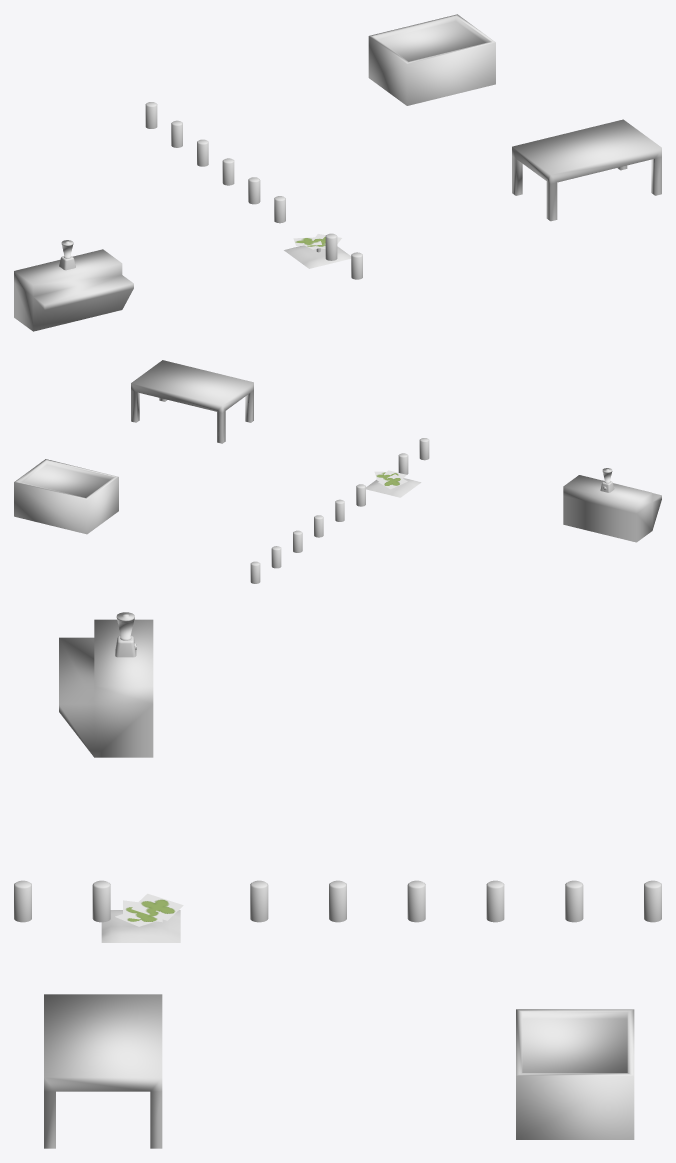
File: SubtreeScene.fbx
3 views of the same model, one above another, from view 1: azimuth 30°, elevation 25°; view 2: azimuth 150°, elevation 25°; view 3: azimuth 270°, elevation 25° (orthographic). The views are drawn at different scales.
Parts seen in each view (by area): view 1: CraftStorage, CraftTable, BlendTable, Divider, GardenPatch; view 2: CraftStorage, BlendTable, CraftTable, Divider, GardenPatch, Grass; view 3: CraftStorage, CraftTable, BlendTable, Divider, GardenPatch, Grass, Blender.
Boxes of the visible parts, x1,y1,x2,y2 form: CraftStorage: [368, 14, 495, 105]; CraftTable: [512, 119, 661, 221]; BlendTable: [14, 249, 133, 331]; Divider: [145, 102, 362, 279]; GardenPatch: [284, 245, 351, 268]; CraftStorage: [14, 459, 118, 534]; BlendTable: [563, 475, 661, 542]; CraftTable: [131, 360, 253, 443]; Divider: [250, 438, 429, 583]; GardenPatch: [366, 478, 421, 497]; Grass: [374, 470, 407, 489]; CraftStorage: [516, 1009, 634, 1139]; CraftTable: [44, 994, 162, 1148]; BlendTable: [59, 619, 153, 757]; Divider: [14, 880, 661, 922]; GardenPatch: [101, 910, 180, 942]; Grass: [115, 893, 183, 926]; Blender: [115, 612, 136, 657].
Size of what is drawn, in the model's own units: 13.75 by 1.68 by 8.23.
